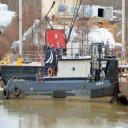tugboat: (3, 41, 122, 108)
